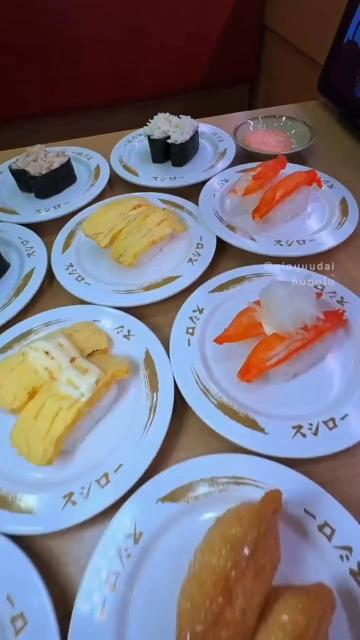janwhite: (61, 488, 360, 636), (1, 316, 167, 528), (202, 269, 360, 454), (52, 203, 227, 301), (224, 162, 360, 260), (0, 129, 112, 220), (110, 124, 235, 190), (0, 212, 50, 309)
